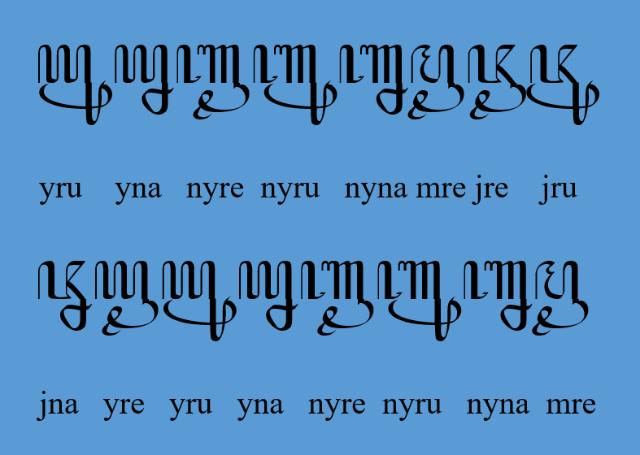jn: (38, 260, 92, 332)
jre: (468, 44, 526, 120)
jru: (526, 44, 598, 126)
mre: (408, 44, 464, 120), (532, 261, 588, 337)
nyn: (339, 45, 409, 116), (463, 260, 532, 332)
nyre: (176, 44, 250, 120), (301, 260, 374, 336)
nyru: (253, 44, 339, 126), (378, 260, 462, 342)
yn: (238, 260, 298, 332), (114, 44, 174, 114)
yre: (94, 261, 158, 337)
yru: (162, 260, 238, 342), (38, 44, 112, 126)
